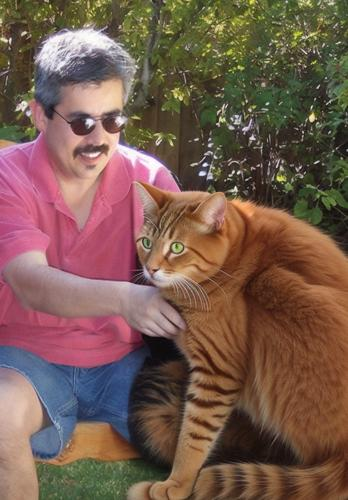cat: (130, 181, 347, 500)
person: (2, 29, 195, 500)
person/hand: (125, 283, 191, 364)
person/head: (33, 31, 137, 180)
